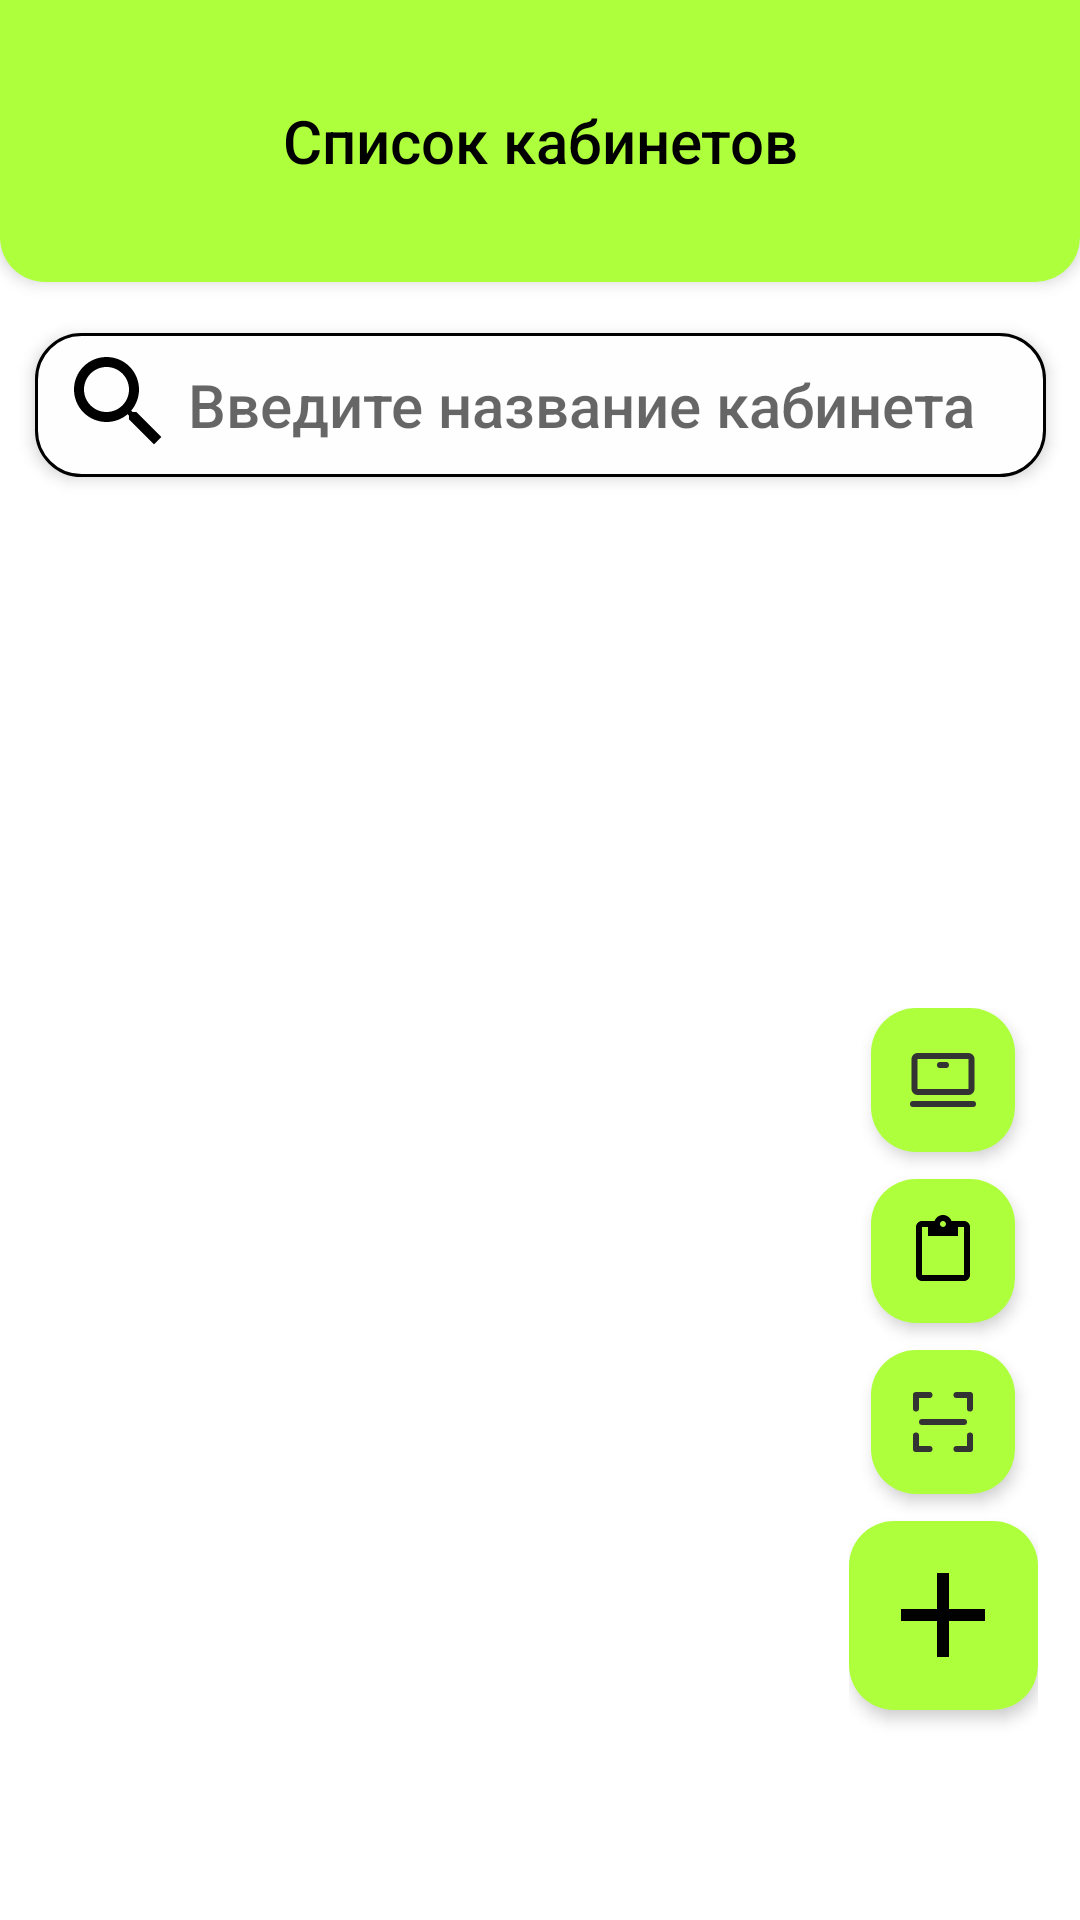

Icon click points for this 1080×1920 phone screenshot, format point (x, y):
Добавление кабинетов: point (943, 1615)
Документы: point (943, 1248)
Оборудование: point (943, 1080)
Поиск: point (117, 400)
Сканер QR: point (943, 1422)
